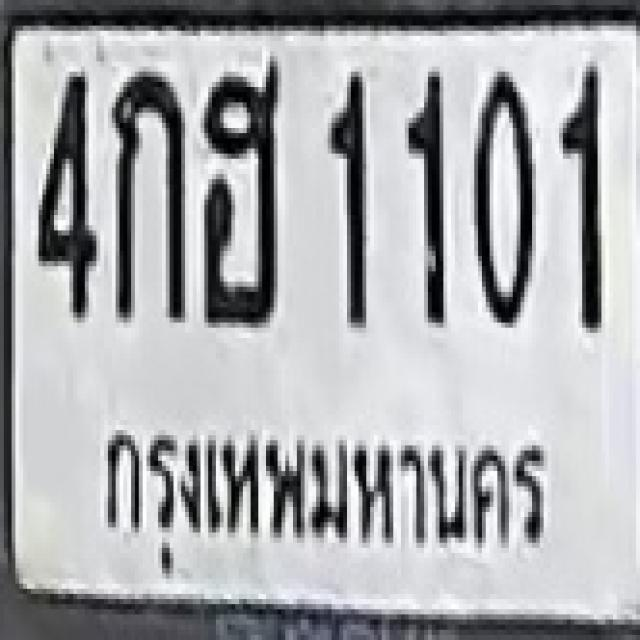-: (200, 61, 278, 322), (110, 66, 183, 318)
0: (470, 69, 532, 325)
1: (559, 66, 601, 322), (324, 69, 366, 320), (405, 69, 443, 320)
4: (34, 69, 92, 315)
BKK: (80, 408, 563, 592)
